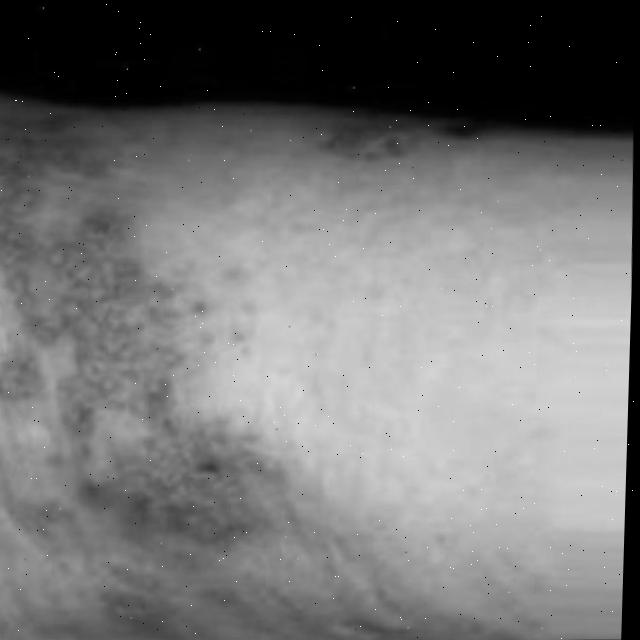Shingles: (0, 105, 250, 553)
